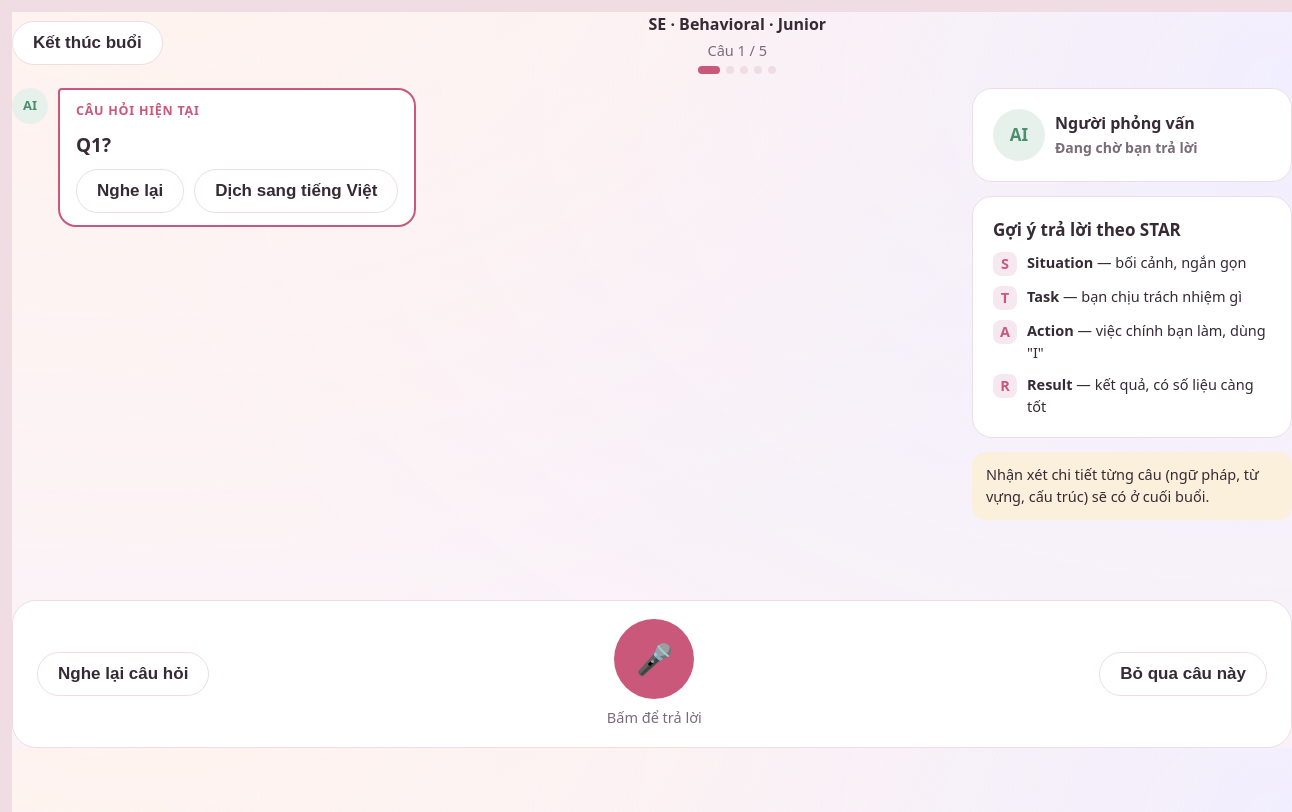
InterviewSessionPage › auto-stops recording at 180 seconds without a click
Click the button named "Bắt đầu trả lời": click(654, 659) [614,619,694,699]
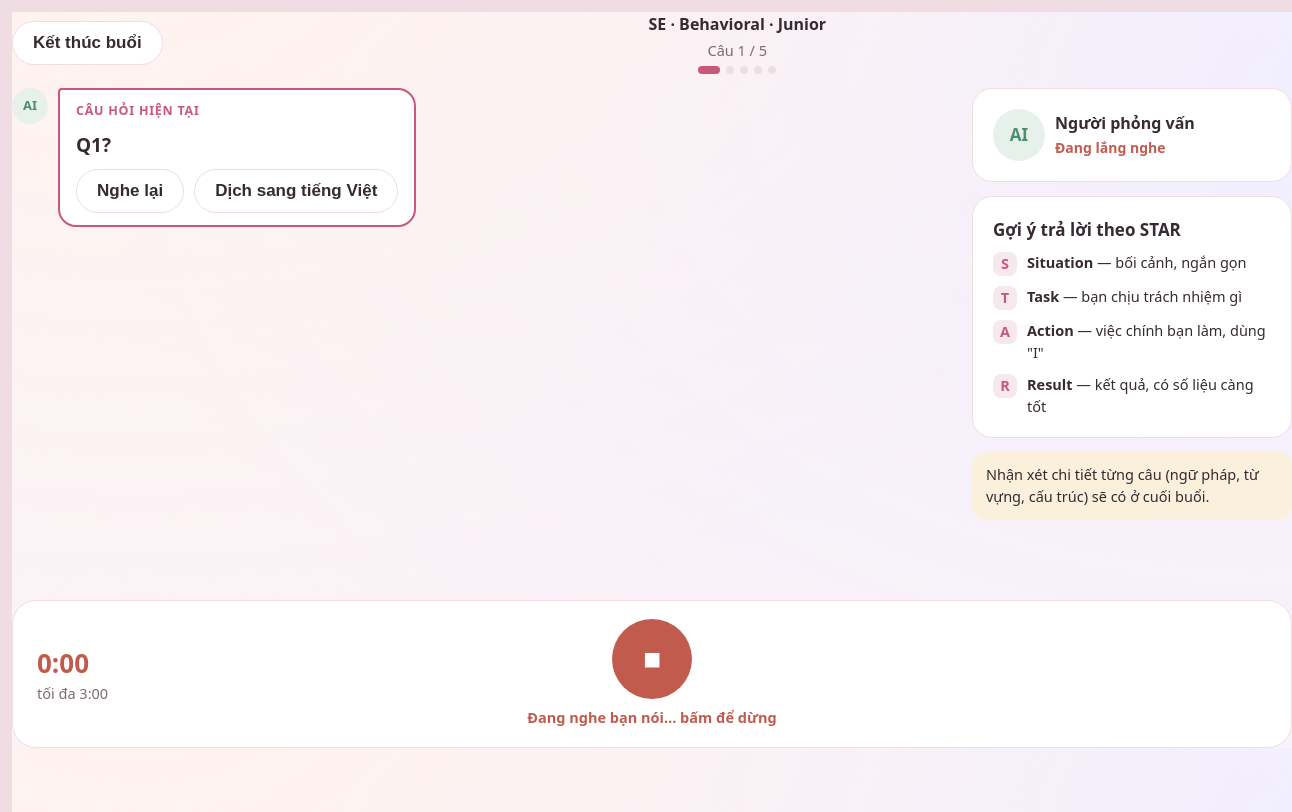
Check: the button named "Dừng ghi âm" is shown, box [612,619,692,699]
